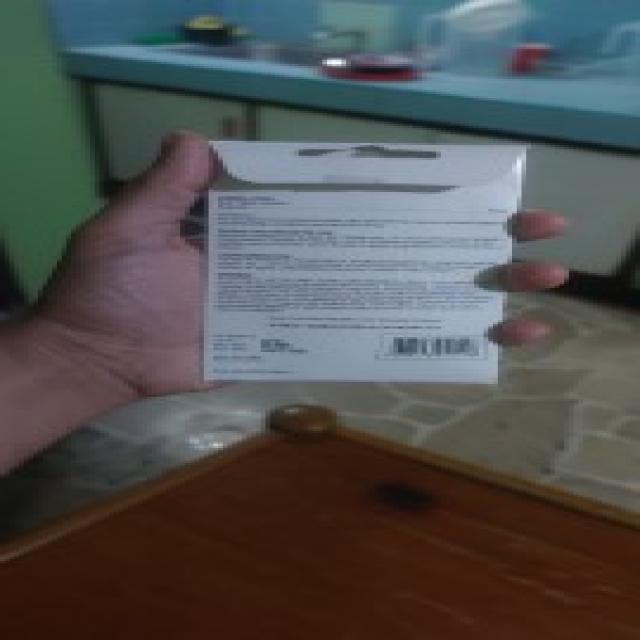Cacat: (202, 140, 519, 386)
